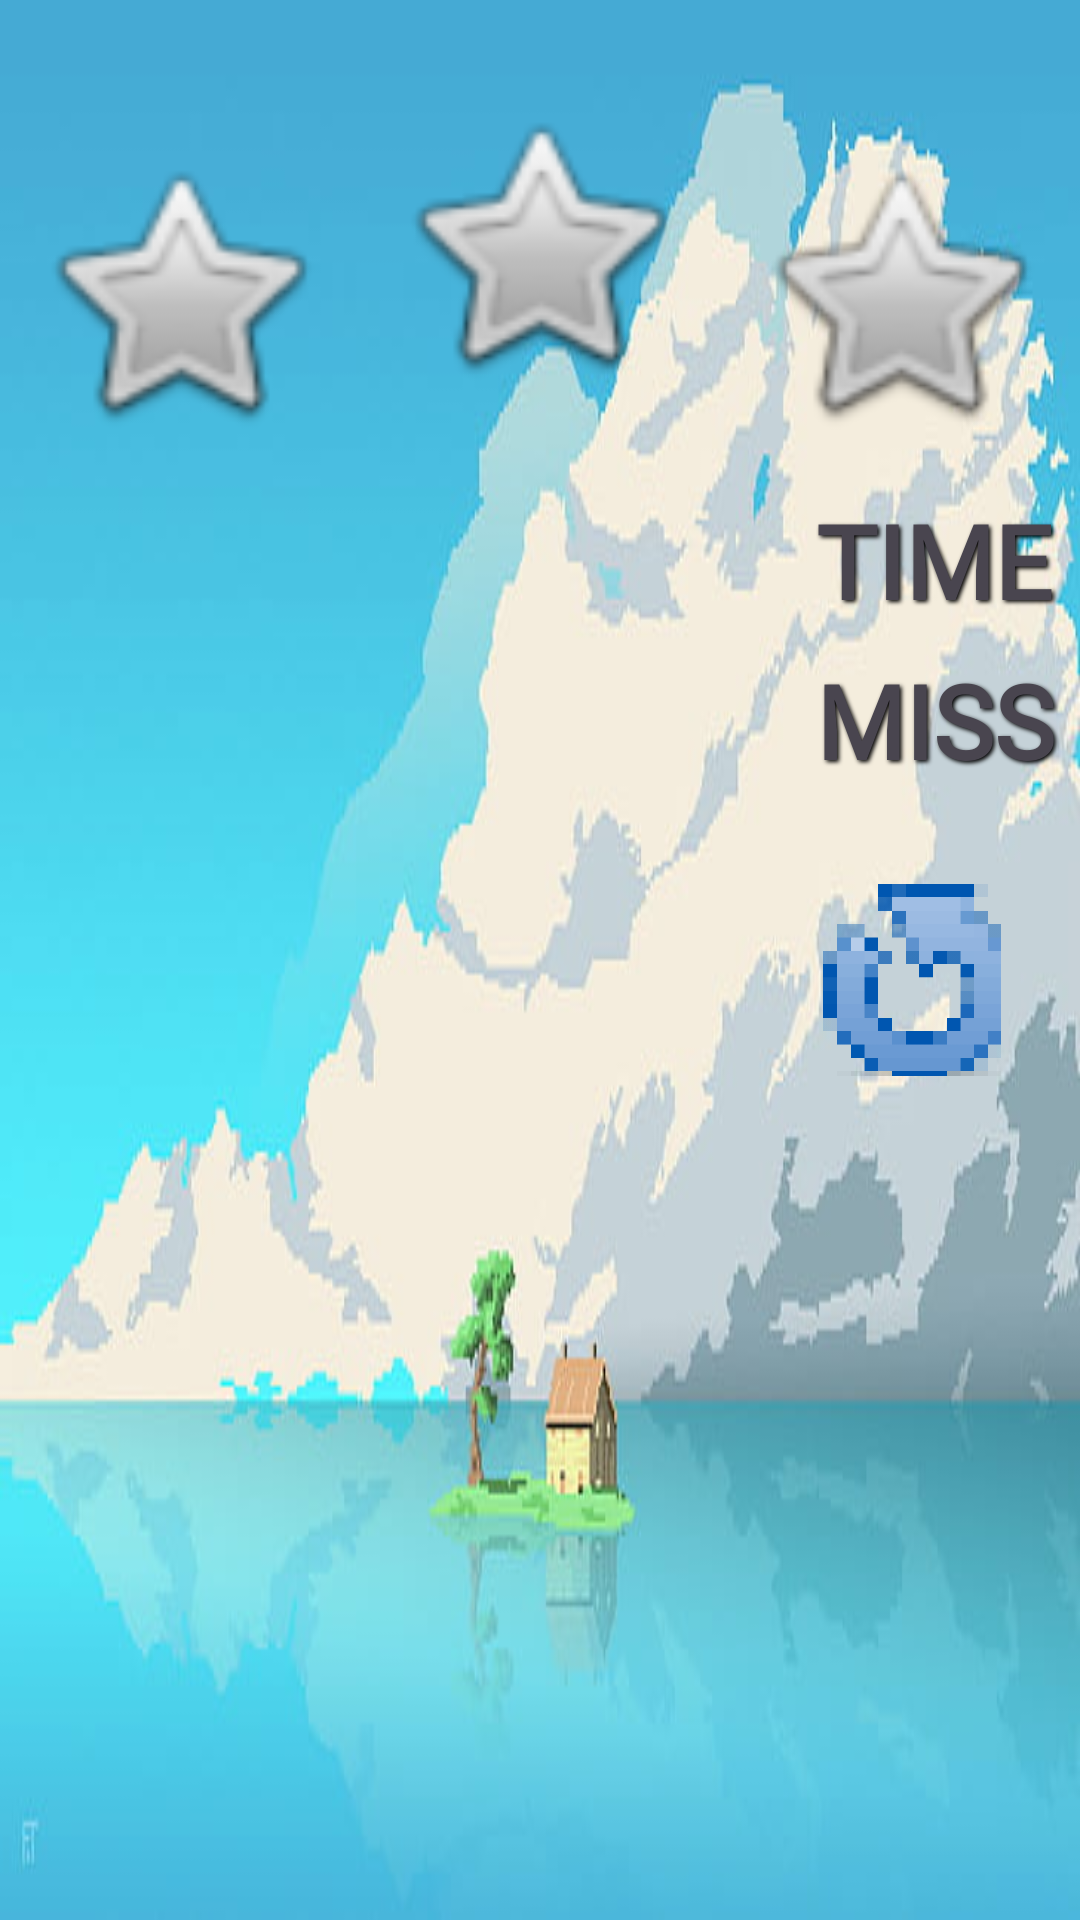

Point at icon controls on the screen. Image size 1080*1920, points as [x,y].
restart: [912,980]
star off: [553,261], [899,294], [181,296]
